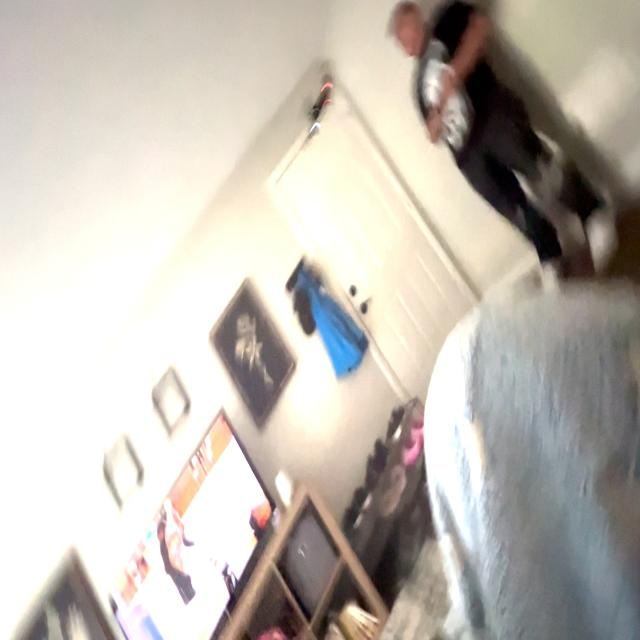drone: (294, 41, 339, 160)
